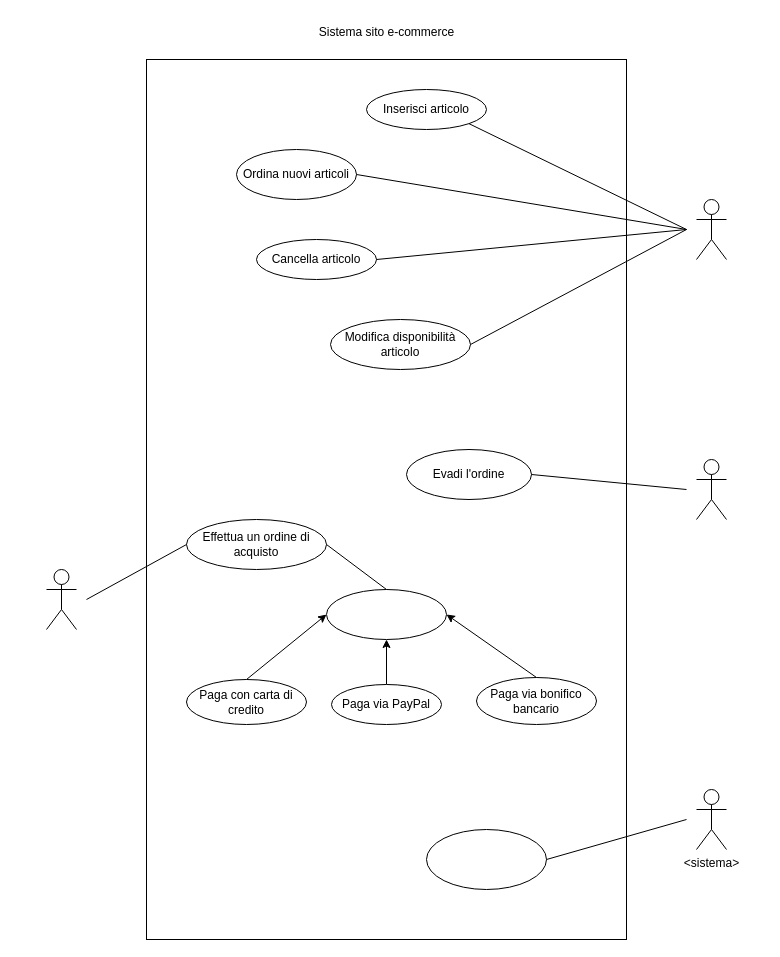
The diagram is 780 pixels wide and 957 high, and some of its shapes have lost their labels. The shapes that lost their labels are listed below. From the top down, each one's centre as x and y in pixels, then its label:
At pixel 711 229: "Amministratore sito".
At pixel 711 489: "Reparto ordini".
At pixel 61 599: "Utente registrato".
At pixel 386 614: "Effettua pagamento".
At pixel 486 859: "Rendi disponibile il catalogo di articoli".
